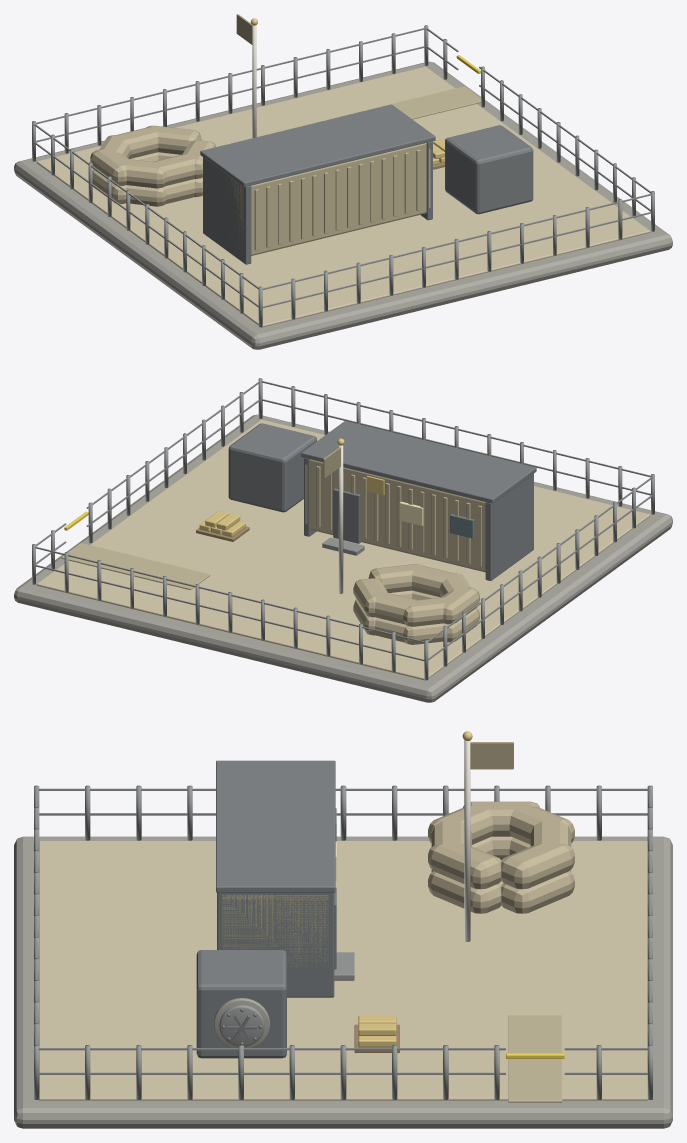
File: treasury_2.glb
The picture shows the model from 3 angles, top to bottom: view 1: azimuth 30°, elevation 25°; view 2: azimuth 150°, elevation 25°; view 3: azimuth 270°, elevation 25°; orthographic projection. The views are drawn at different scales.
Visible parts, largest first — view 1: Cube.001, Cube, Cube.003, Cube.022, Cube.028, Cube.004, Cube.002, Cube.047, Cube.039, Cube.045, Cube.058, Cube.053 (+12 smaller); view 2: Cube.001, Cube, Cube.022, Cube.003, Cube.028, Cube.004, Cube.002, Cube.023, Cube.043, Cube.051, Cube.045, Cube.052 (+14 smaller); view 3: Cube.001, Cube, Cube.022, Cube.005, Cube.028, Cube.002, Cube.003, Cube.039, Cube.051, Cube.038, Cube.050, Cylinder.053 (+14 smaller).
Boxes of the visible parts, box(x1,y1,x2,y2) form: Cube.001: box(36, 66, 650, 327); Cube: box(14, 61, 672, 349); Cube.003: box(223, 143, 426, 255); Cube.022: box(200, 104, 435, 186); Cube.028: box(445, 125, 533, 214); Cube.004: box(203, 157, 251, 264); Cube.002: box(335, 86, 480, 119); Cube.047: box(111, 159, 166, 188); Cube.039: box(146, 125, 201, 154); Cube.045: box(90, 149, 130, 185); Cube.058: box(262, 193, 651, 289); Cube.053: box(262, 212, 651, 308); Cube.001: box(36, 419, 650, 680); Cube: box(14, 414, 672, 702); Cube.022: box(301, 421, 536, 503); Cube.003: box(310, 459, 485, 572); Cube.028: box(228, 423, 316, 512); Cube.004: box(485, 473, 533, 580); Cube.002: box(61, 543, 210, 589); Cube.023: box(333, 488, 360, 543); Cube.043: box(403, 597, 459, 626); Cube.051: box(368, 564, 423, 592); Cube.045: box(439, 586, 479, 624); Cube.052: box(35, 565, 424, 661); Cube.001: box(39, 841, 647, 1100); Cube: box(14, 836, 672, 1128); Cube.022: box(216, 760, 335, 892); Cube.005: box(217, 892, 334, 997); Cube.028: box(196, 950, 286, 1058); Cube.002: box(508, 1015, 562, 1102); Cube.003: box(222, 894, 328, 966); Cube.039: box(501, 840, 574, 889); Cube.051: box(428, 843, 501, 889); Cube.038: box(501, 871, 574, 913); Cube.050: box(428, 871, 501, 913); Cylinder.053: box(464, 740, 470, 941).
Bounding box in the file's own units: 2.92 × 1.14 × 2.92.
